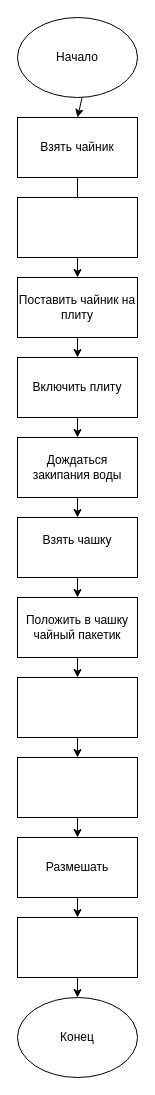
The diagram is 155 pixels wide and 1095 high, and some of its shapes have lost their labels. Each missing label, with the centre of its shape:
"Добавить сахар" belongs at pixel 77 787.
"Налить в чайник воду" belongs at pixel 77 227.
"Налить кипяток в чашку" belongs at pixel 77 707.
"Чай готов!" belongs at pixel 77 947.
